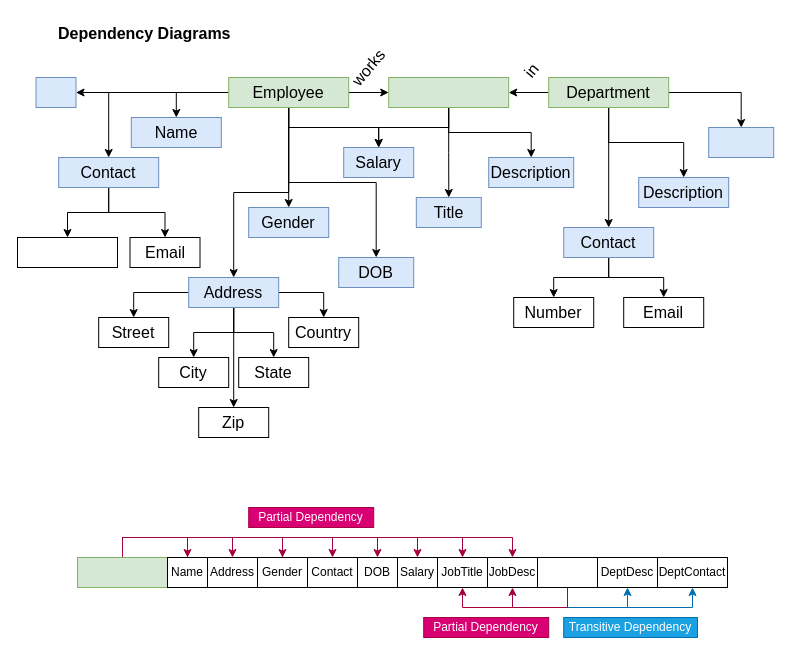
Some shapes in this 792 by 655 pixel diagram are drawn without their labels. Here are the shapes that lost their labels. From the top down, the box of each, then its label:
(35, 76, 76, 108): ID
(388, 76, 509, 108): Job
(708, 126, 774, 158): Code
(16, 236, 118, 268): NumberCell
(76, 556, 168, 588): EmployeeID
(536, 556, 598, 588): DeptCode
